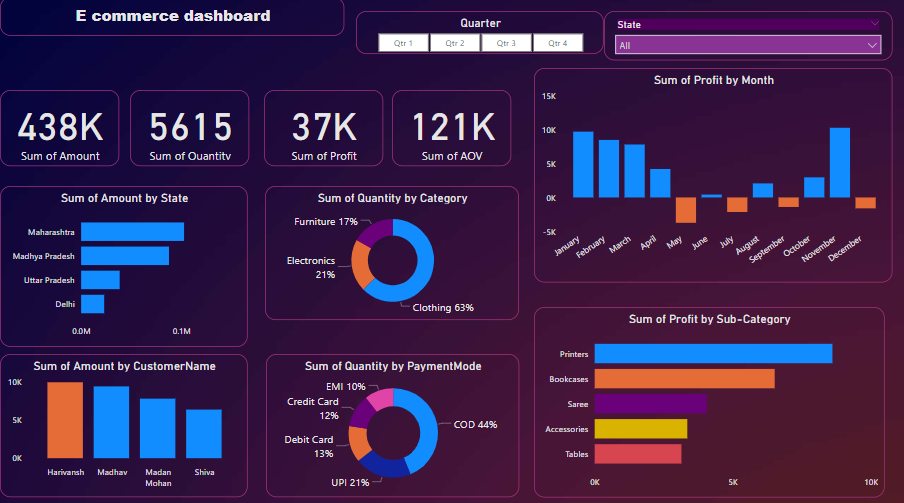

What the dashboard file says about the page in this screenshot:
{"tool":"powerbi","page":{"name":"Page 1","canvas":[1280,720],"ordinal":0},"visuals":[{"type":"textbox","box":[0,0,488.2,54.7],"z":0},{"type":"columnChart","fields":{"Category":["Orders.Order Date.Variation.Date Hierarchy.Month"],"Y":["Details.Profit"]},"box":[756.6,100.7,508.3,303.6],"z":1000},{"type":"barChart","fields":{"Category":["Details.Sub-Category"],"Y":["Details.Profit"]},"box":[756.6,439.5,496.6,270.1],"z":2000},{"type":"donutChart","fields":{"Category":["Details.Category"],"Y":["Details.Quantity"]},"box":[375.6,267.9,360,189.9],"z":3000},{"type":"donutChart","fields":{"Y":["Details.Quantity"],"Category":["Details.PaymentMode"]},"box":[377.5,506.6,359,203],"z":4000},{"type":"card","fields":{"Values":["Details.Amount"]},"box":[0,131.8,168.7,107.7],"z":5000},{"type":"card","fields":{"Values":["Details.Quantity"]},"box":[184.3,131.8,168.7,107.7],"z":6000},{"type":"card","fields":{"Values":["Details.Profit"]},"box":[374.2,131.8,168.7,107.7],"z":7000},{"type":"card","fields":{"Values":["Details.AOV"]},"box":[555.6,131.8,168.7,107.7],"z":8000},{"type":"barChart","fields":{"Category":["Orders.State"],"Y":["Details.Amount"]},"box":[0,267.9,351.5,228.2],"z":9000},{"type":"columnChart","fields":{"Category":["Orders.CustomerName"],"Y":["Details.Amount"]},"box":[0,506,351.5,202.7],"z":10000},{"type":"slicer","fields":{"Values":["Orders.State"]},"box":[855.6,20.1,409.3,70.5],"z":11000},{"type":"slicer","title":"Quarter","fields":{"Values":["Orders.Order Date.Variation.Date Hierarchy.Quarter"]},"box":[504.6,19.8,351.5,60.9],"z":12000}]}

Visuals, with their boxes in screenshot pixels (x1, y1, x2, y2), scaled from the page's 1280x720 canvas onto the 904x503 screenshot:
textbox: (0,0,345,38)
columnChart - Orders.Order Date.Variation.Date Hierarchy.Month x Details.Profit: (534,70,893,282)
barChart - Details.Sub-Category x Details.Profit: (534,307,885,496)
donutChart - Details.Category x Details.Quantity: (265,187,520,320)
donutChart - Details.Quantity x Details.PaymentMode: (267,354,520,496)
card - Details.Amount: (0,92,119,167)
card - Details.Quantity: (130,92,249,167)
card - Details.Profit: (264,92,383,167)
card - Details.AOV: (392,92,512,167)
barChart - Orders.State x Details.Amount: (0,187,248,347)
columnChart - Orders.CustomerName x Details.Amount: (0,353,248,495)
slicer - Orders.State: (604,14,893,63)
"Quarter" slicer: (356,14,605,56)
